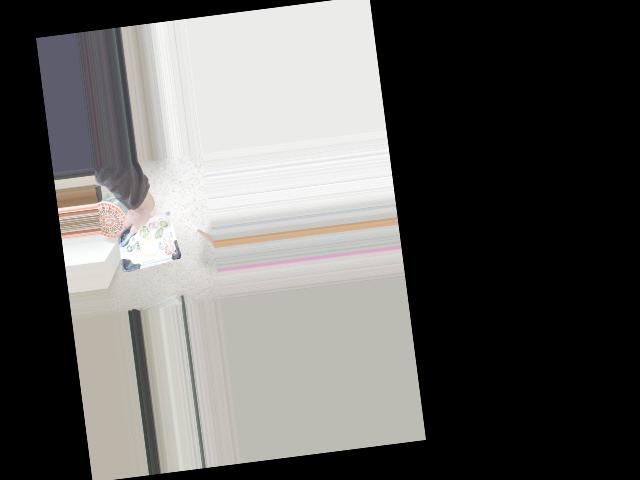cheese: (122, 201, 179, 254)
